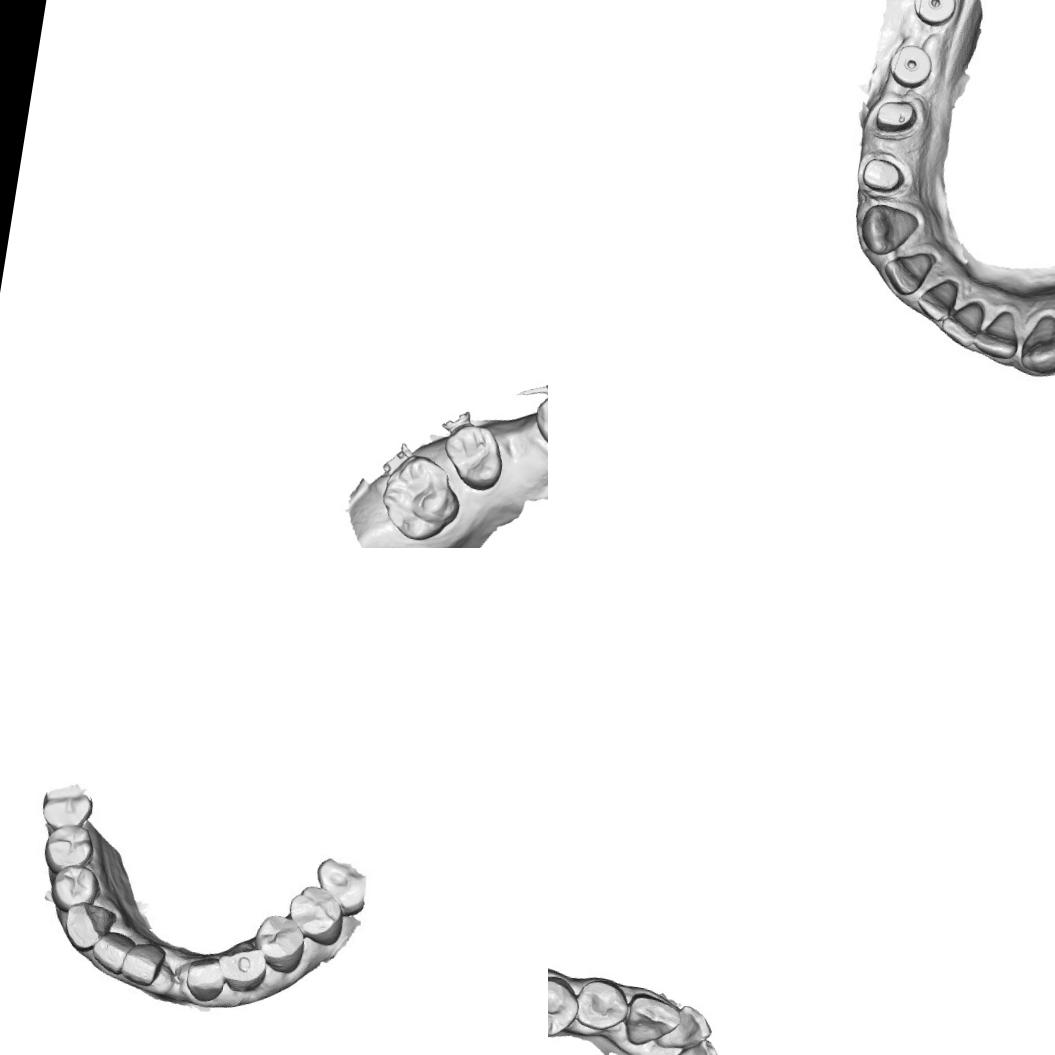canine: (850, 196, 920, 264), (620, 990, 684, 1054), (218, 939, 274, 996), (1016, 308, 1055, 382), (60, 901, 112, 953), (530, 385, 548, 458)
crown: (863, 90, 929, 139), (856, 150, 910, 196)
implant: (886, 39, 933, 89), (905, 0, 958, 25)
incisor: (656, 1000, 717, 1055), (179, 952, 231, 1006), (882, 245, 932, 296), (123, 938, 170, 990), (976, 306, 1018, 358), (915, 273, 956, 319), (943, 299, 984, 344), (94, 926, 135, 968), (664, 1031, 727, 1055)
molar: (373, 448, 468, 548)
premolar: (438, 419, 510, 492), (282, 879, 349, 947), (572, 973, 632, 1037), (249, 910, 308, 972), (40, 820, 98, 878), (47, 863, 102, 912), (548, 970, 583, 1043)
